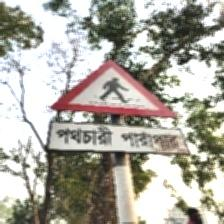Pedestrian-crossing: (46, 58, 189, 153)
